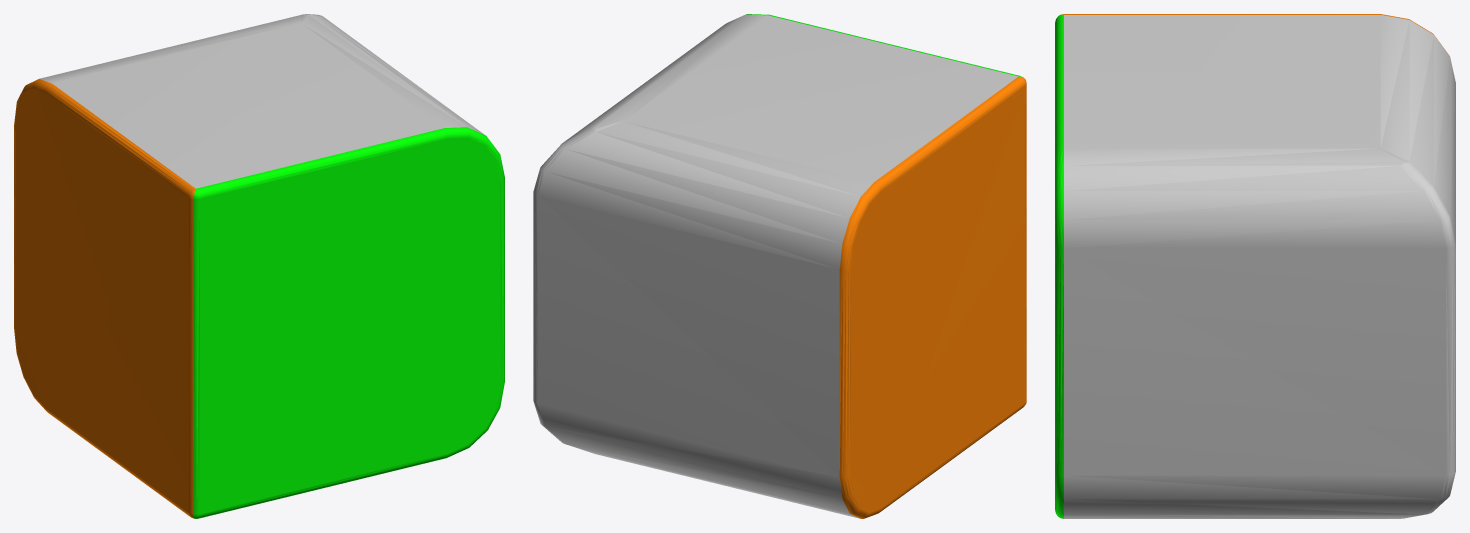
3 views of the same model, side by side, from view 1: azimuth 30°, elevation 25°; view 2: azimuth 150°, elevation 25°; view 3: azimuth 270°, elevation 25° (orthographic). The views are drawn at different scales.
Parts seen in each view (by area): view 1: edge_LF; view 2: edge_LF; view 3: edge_LF.
Part boxes in pixels (x1,y1,x2,y2): edge_LF: (14, 14, 504, 518); edge_LF: (533, 14, 1026, 518); edge_LF: (1055, 14, 1455, 518).
Bounding box in the file's own units: 0.2003 × 0.2003 × 0.2003.
1 material, 1 textured.
